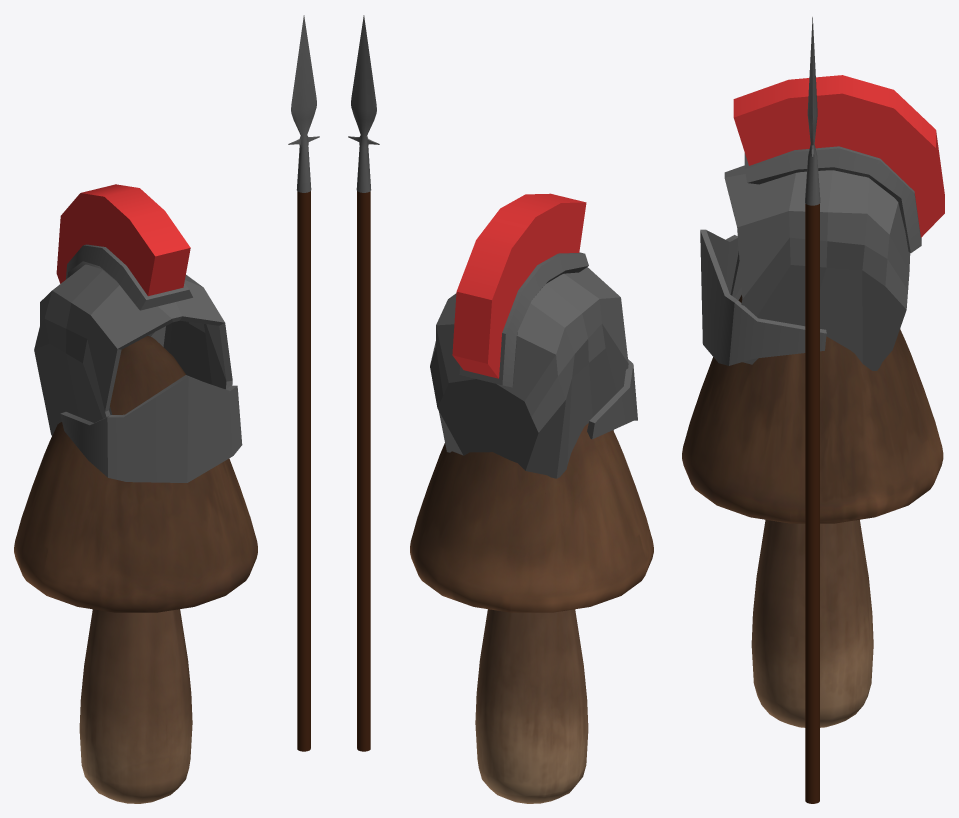
File: Schroom_Warrio_Smoll_Anime.fbx
3 views of the same model, side by side, from view 1: azimuth 30°, elevation 25°; view 2: azimuth 150°, elevation 25°; view 3: azimuth 270°, elevation 25° (orthographic). The views are drawn at different scales.
Parts seen in each view (by area): view 1: Warrior.002, Warrior.007; view 2: Warrior.002, Warrior.007; view 3: Warrior.002, Warrior.007.
Boxes of the visible parts, x1,y1,x2,y2 form: Warrior.002: [14, 184, 257, 803]; Warrior.007: [288, 15, 319, 751]; Warrior.002: [410, 193, 653, 803]; Warrior.007: [348, 15, 379, 751]; Warrior.002: [682, 75, 944, 727]; Warrior.007: [805, 17, 820, 803].
Bounding box in the file's own units: 189 × 465 × 140.
